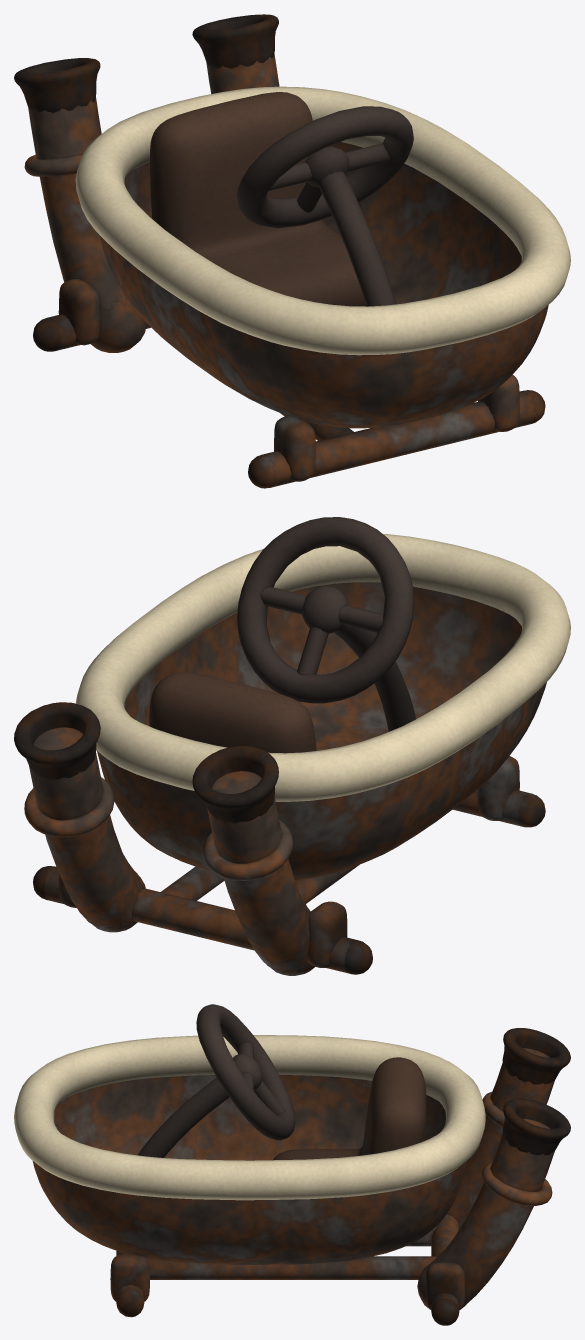
The picture shows the model from 3 angles, top to bottom: view 1: azimuth 30°, elevation 25°; view 2: azimuth 150°, elevation 25°; view 3: azimuth 270°, elevation 25°; orthographic projection. The views are drawn at different scales.
Parts seen in each view (by area): view 1: body, steering_wheel; view 2: body, steering_wheel; view 3: body, steering_wheel.
Boxes of the visible parts, bbox=[...] form: body: bbox=[14, 14, 570, 488]; steering_wheel: bbox=[237, 106, 413, 228]; body: bbox=[14, 534, 570, 975]; steering_wheel: bbox=[237, 517, 414, 703]; body: bbox=[14, 1028, 570, 1325]; steering_wheel: bbox=[196, 1004, 295, 1140].
Bounding box in the file's own units: 0.845 × 0.7301 × 1.4.
1 material, 1 textured.
